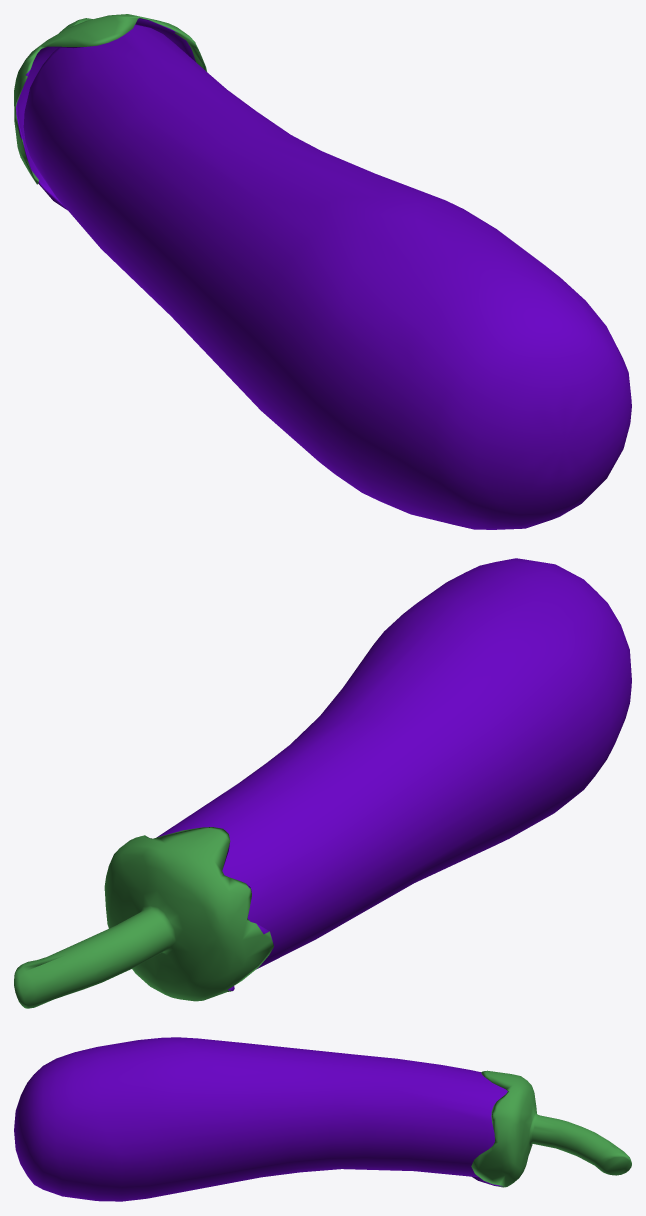
The model's file is qiezi.fbx.
3 views of the same model, one above another, from view 1: azimuth 30°, elevation 25°; view 2: azimuth 150°, elevation 25°; view 3: azimuth 270°, elevation 25° (orthographic). The views are drawn at different scales.
Parts seen in each view (by area): view 1: Cylinder034; view 2: Cylinder034; view 3: Cylinder034.
Part boxes in pixels (left/top/right/bottom): Cylinder034: left=14, top=14, right=631, bottom=529; Cylinder034: left=14, top=558, right=631, bottom=1008; Cylinder034: left=14, top=1037, right=631, bottom=1201.
Size of the model in its own units: 125 by 122 by 465.
